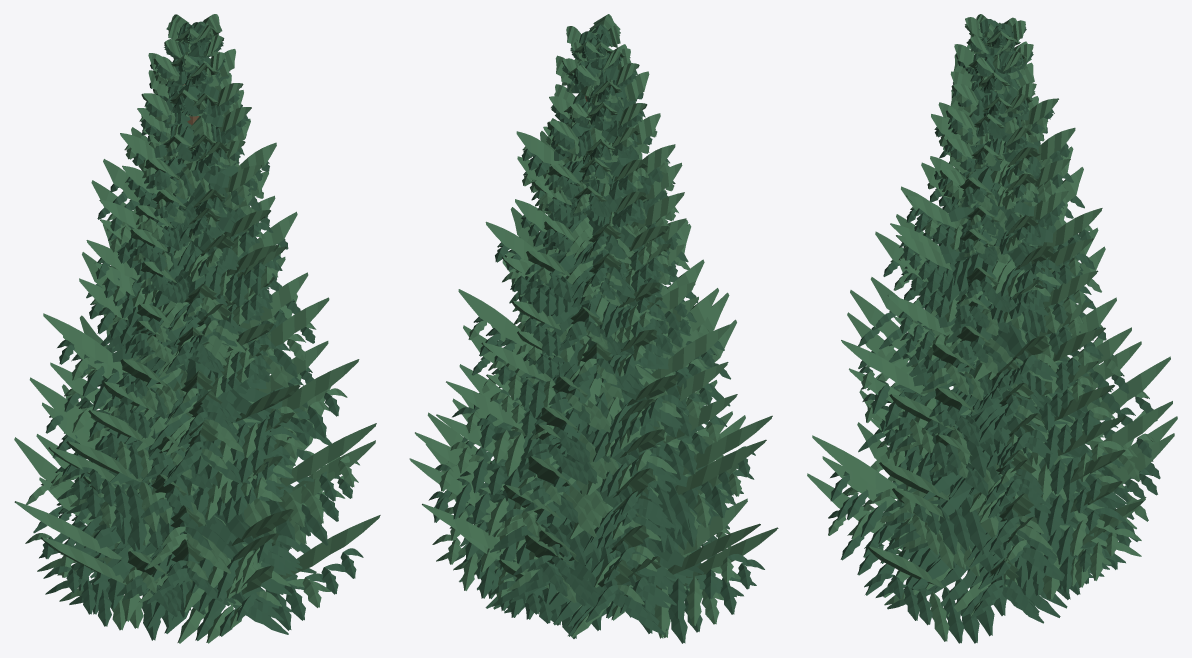
File: gran.glb
The picture shows the model from 3 angles, left to right: view 1: azimuth 30°, elevation 25°; view 2: azimuth 150°, elevation 25°; view 3: azimuth 270°, elevation 25°; orthographic projection. The views are drawn at different scales.
Visible parts, largest first — view 1: Oregelbundna grengrenar; view 2: Oregelbundna grengrenar; view 3: Oregelbundna grengrenar.
Part boxes in pixels (left/top/right/bottom): Oregelbundna grengrenar: left=14, top=14, right=380, bottom=643; Oregelbundna grengrenar: left=409, top=14, right=778, bottom=643; Oregelbundna grengrenar: left=807, top=14, right=1177, bottom=643.
Bounding box in the file's own units: 3.73 × 6.49 × 3.78.
